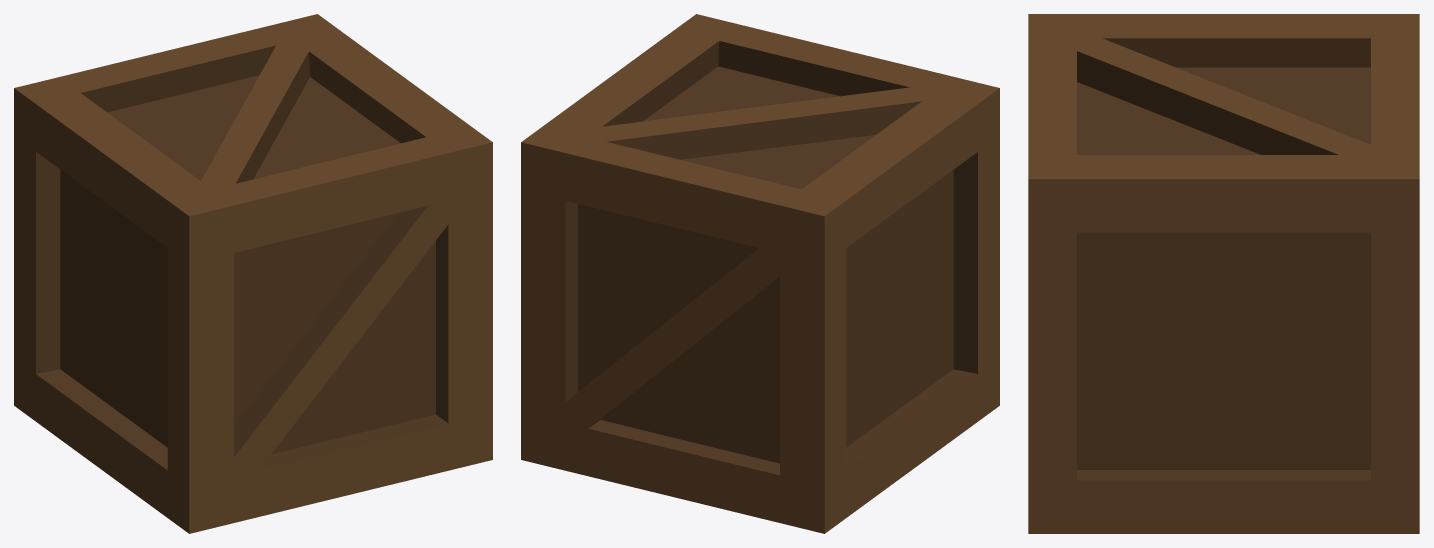
File: Caixa.fbx
3 renders of one model, left to right at view 1: azimuth 30°, elevation 25°; view 2: azimuth 150°, elevation 25°; view 3: azimuth 270°, elevation 25°, orthographic. The views are drawn at different scales.
Visible parts, largest first — view 1: Caixa; view 2: Caixa; view 3: Caixa.
Boxes of the visible parts, bbox=[...] form: Caixa: bbox=[14, 14, 492, 533]; Caixa: bbox=[521, 14, 999, 533]; Caixa: bbox=[1028, 14, 1419, 533].
Size of the model in its own units: 100 by 100 by 100.
